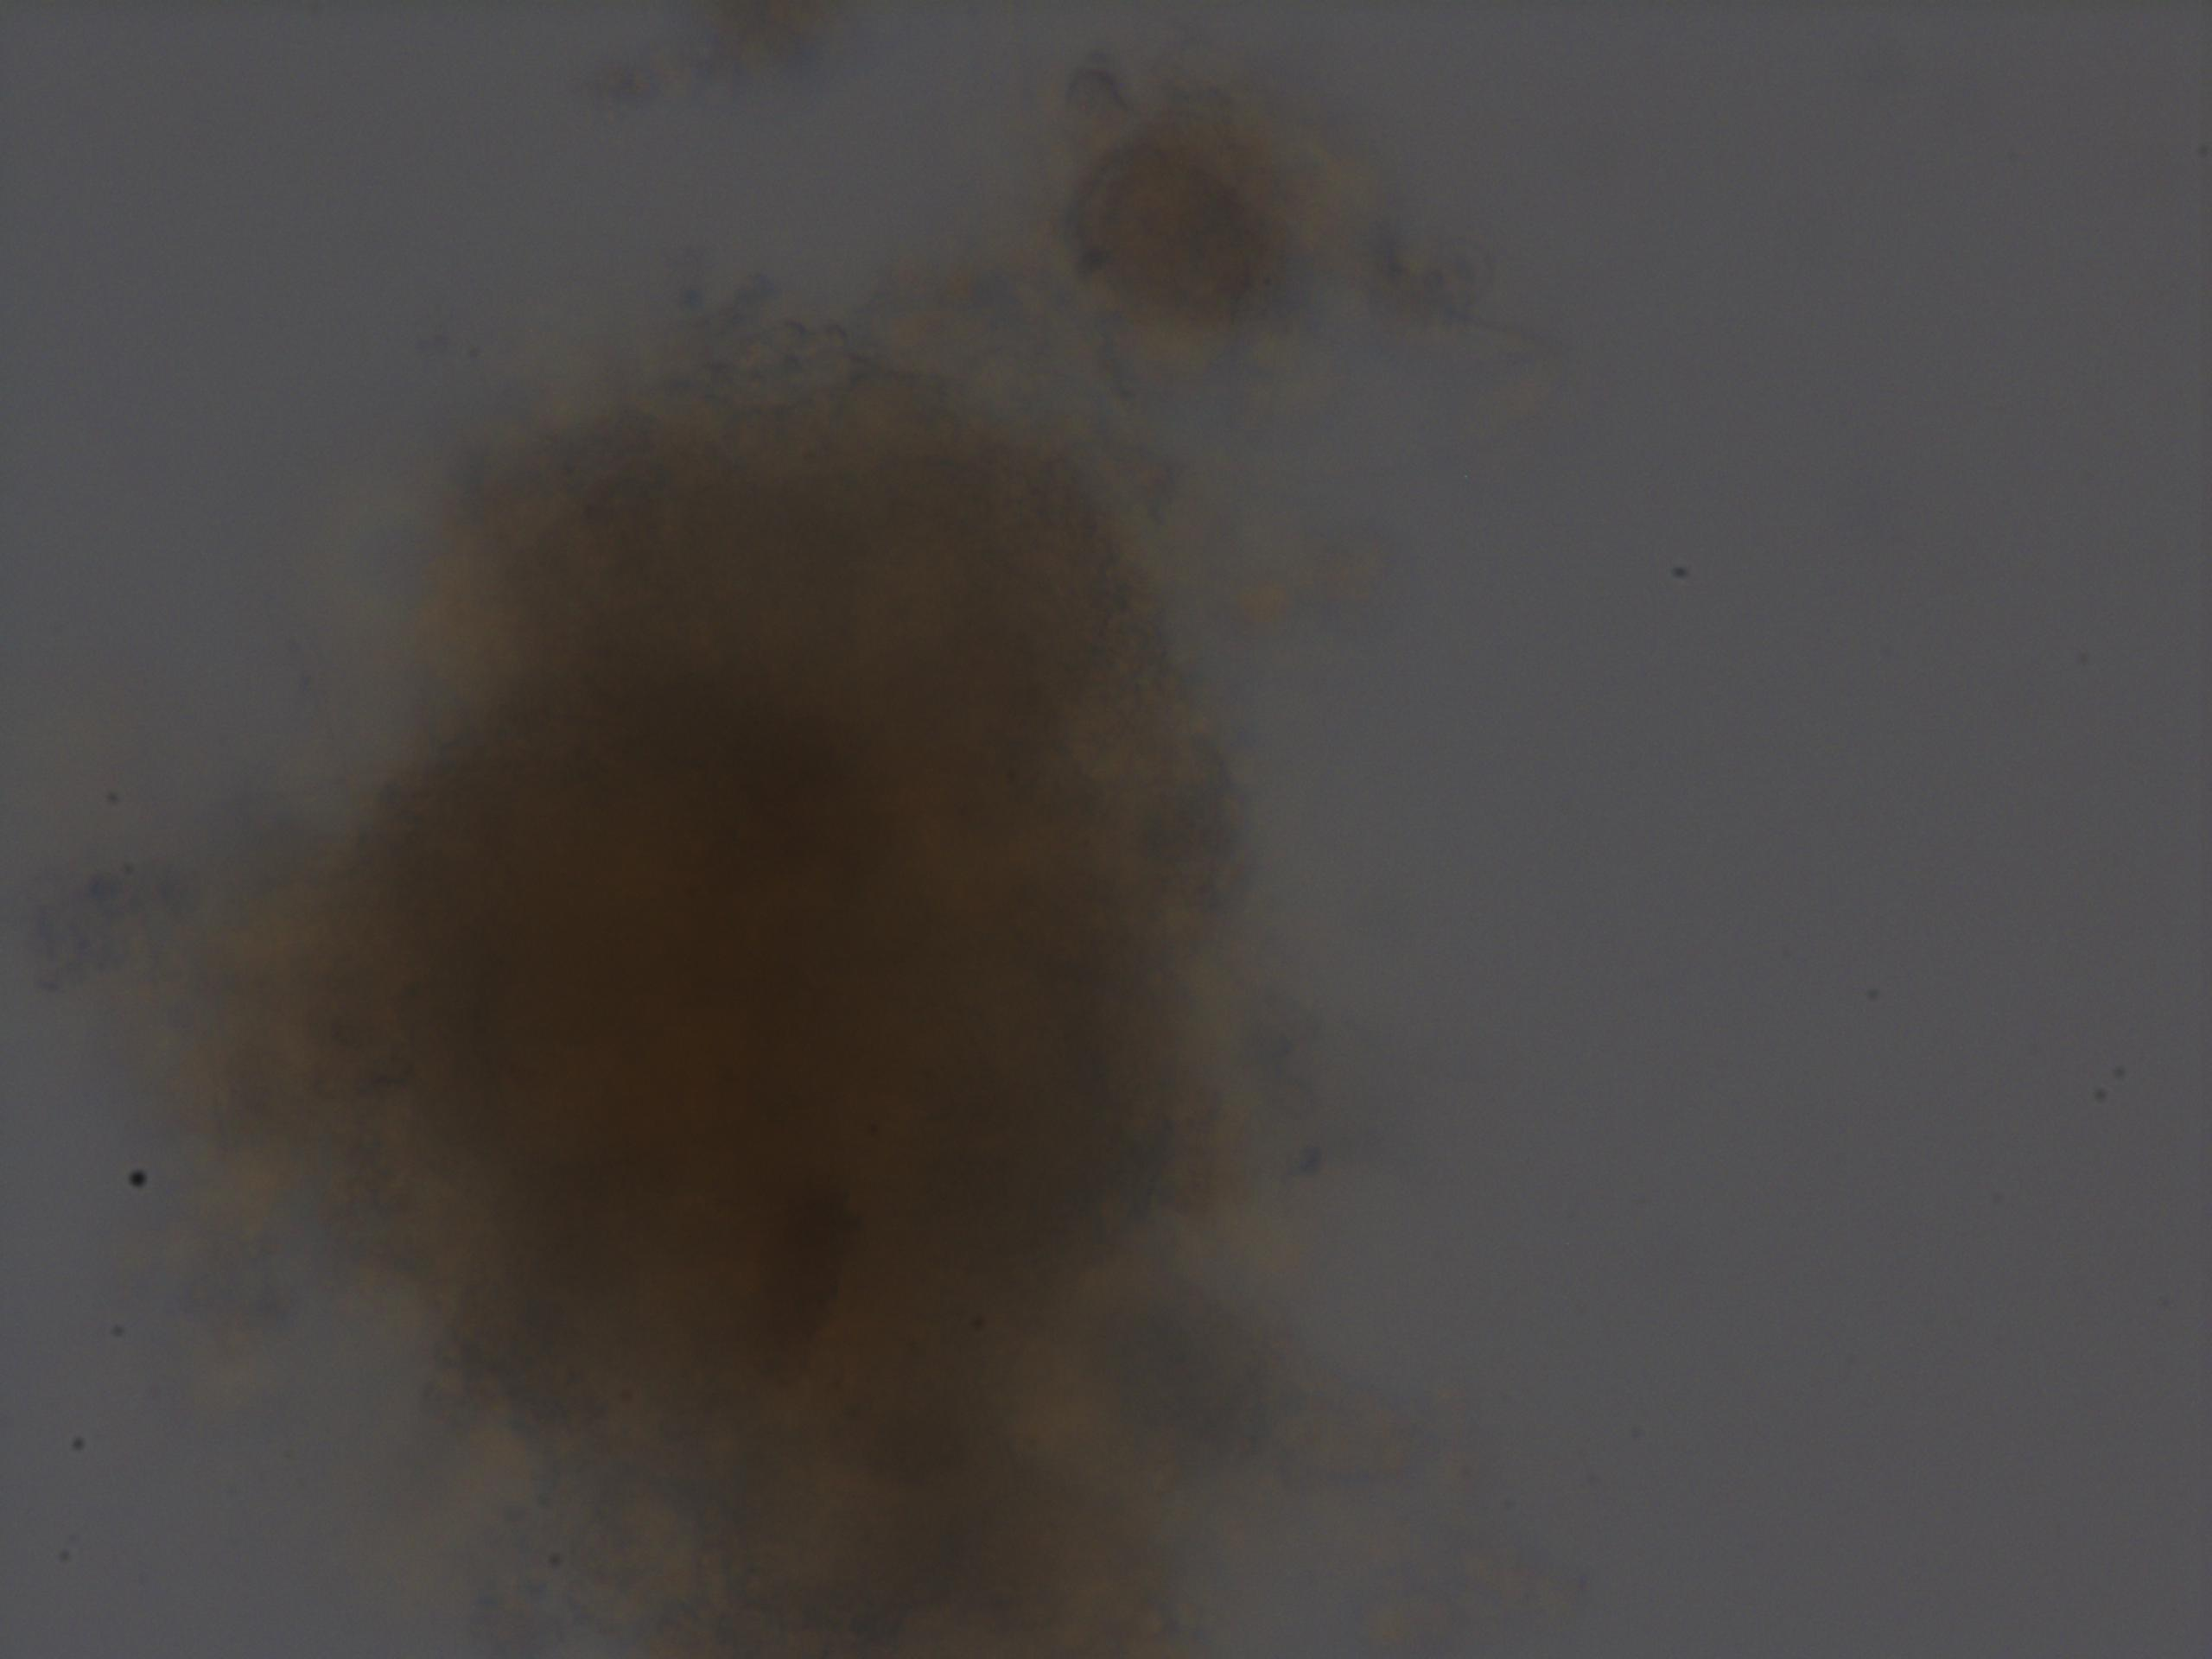spherical_floc: (246, 347, 1275, 1659)
